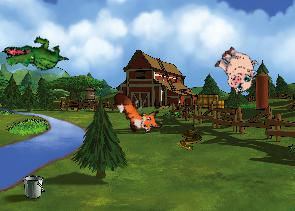crocodile: (1, 28, 69, 82)
fox: (110, 80, 166, 142)
pig: (208, 41, 264, 97)
